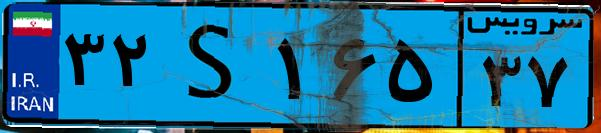1: (270, 28, 330, 110)
2: (110, 28, 158, 98)
3: (57, 26, 110, 100), (475, 38, 525, 113)
5: (385, 28, 445, 110)
6: (330, 28, 385, 110)
7: (525, 38, 570, 115)
S: (158, 12, 270, 120)
